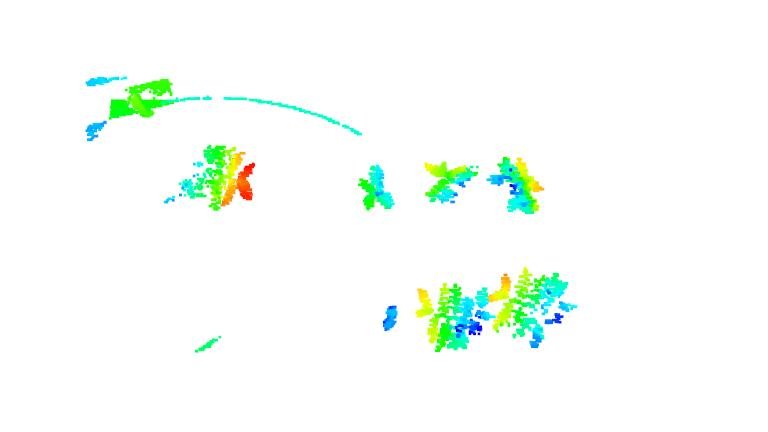chickpea: (488, 268, 580, 352), (416, 283, 492, 355), (189, 143, 257, 211), (488, 155, 545, 216), (419, 159, 481, 206), (359, 165, 397, 212)
